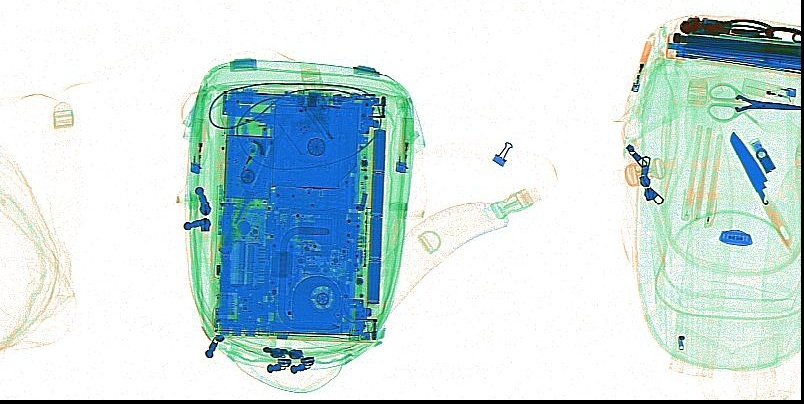handcuffs: (679, 15, 799, 42)
knife: (216, 129, 280, 254), (729, 130, 793, 254)
lighter: (740, 76, 796, 104), (631, 39, 652, 92), (189, 116, 205, 174), (395, 116, 410, 173)
scissors: (706, 81, 798, 121)
